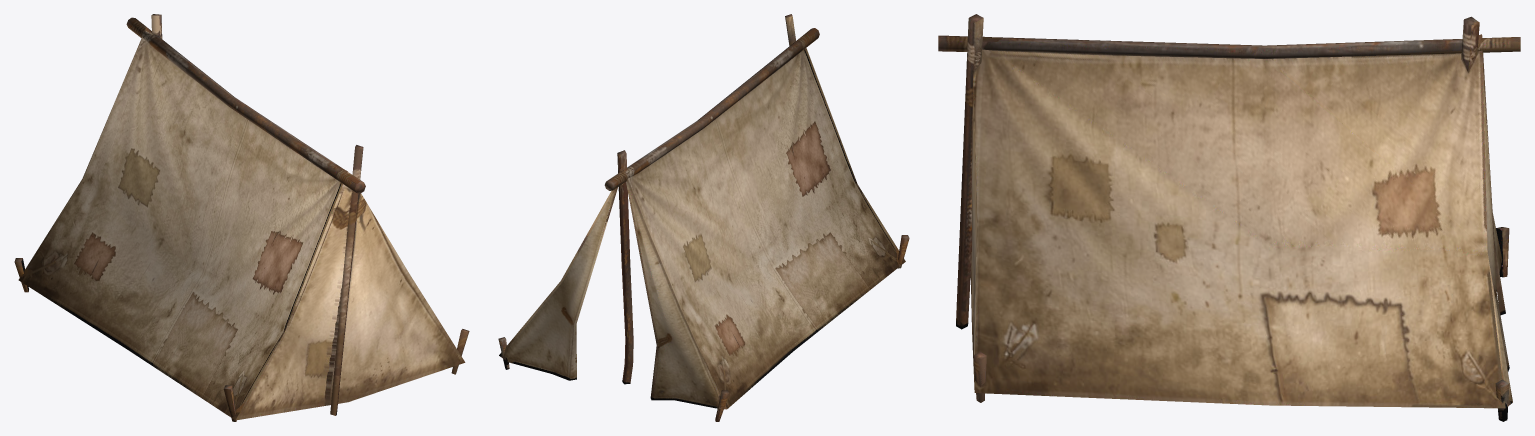
Rendered from prop_tent_red.glb.
3 views of the same model, side by side, from view 1: azimuth 30°, elevation 25°; view 2: azimuth 150°, elevation 25°; view 3: azimuth 270°, elevation 25° (orthographic). The views are drawn at different scales.
Visible parts, largest first — view 1: draai_90; view 2: draai_90; view 3: draai_90.
Part boxes in pixels (left/top/right/bottom): draai_90: left=14, top=14, right=469, bottom=421; draai_90: left=498, top=14, right=909, bottom=421; draai_90: left=938, top=14, right=1520, bottom=421.
Size of the model in its own units: 0.6453 by 0.6444 by 1.
Materials: 1 (1 with a texture image).
